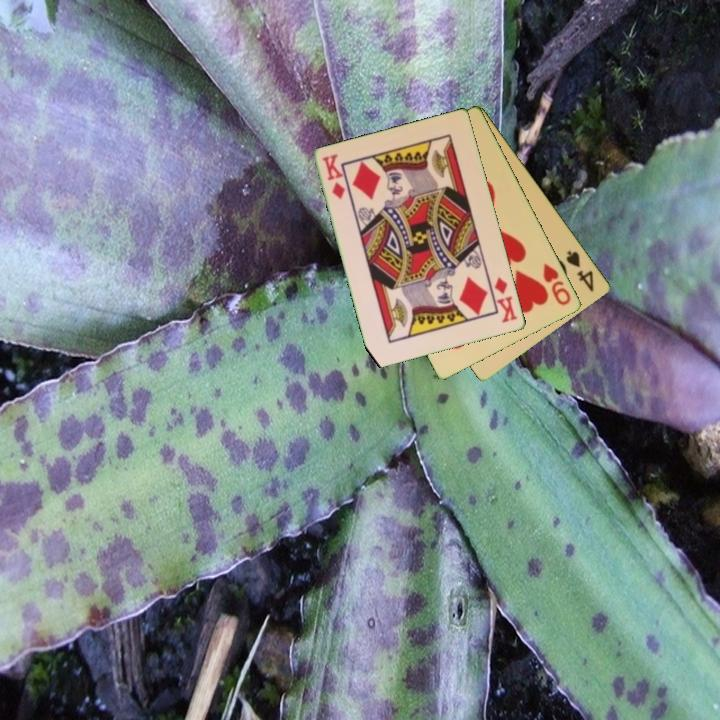4s: (563, 247, 597, 295)
9h: (540, 260, 574, 308)
Kd: (491, 273, 520, 326), (319, 151, 348, 202)
